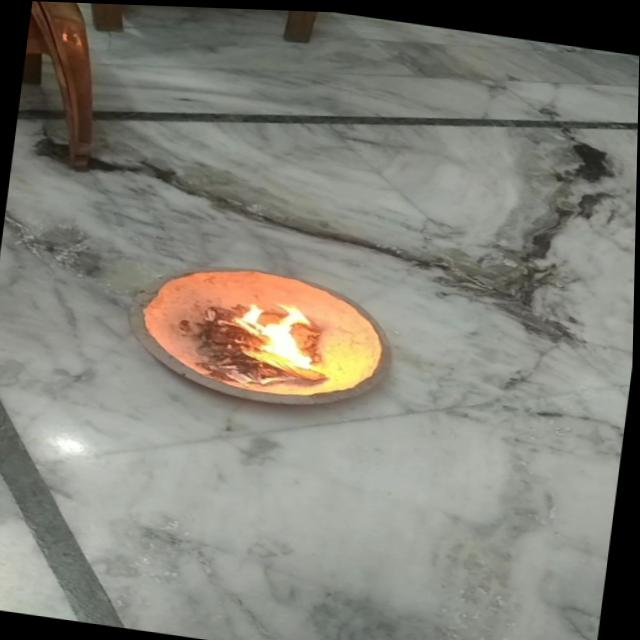fire: (217, 290, 337, 380)
